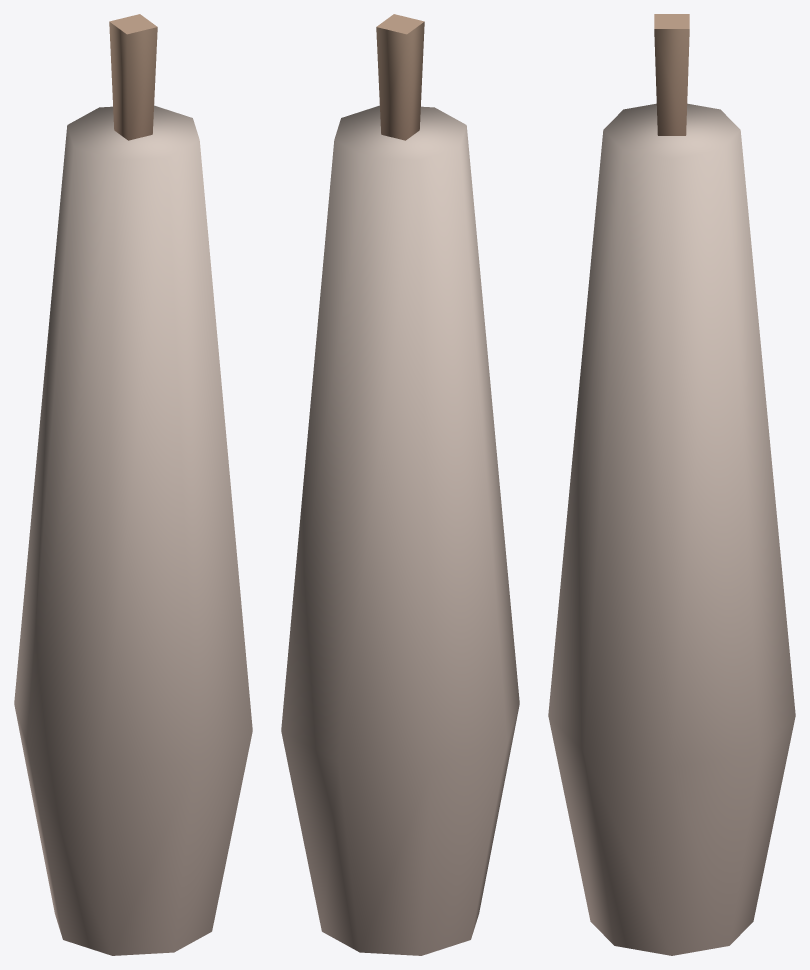
File: candle-thin.glb
3 renders of one model, left to right at view 1: azimuth 30°, elevation 25°; view 2: azimuth 150°, elevation 25°; view 3: azimuth 270°, elevation 25°, orthographic.
Visible parts, largest first — view 1: candle-thin; view 2: candle-thin; view 3: candle-thin.
Part boxes in pixels (x1=…): candle-thin: x1=14, y1=14, x2=252, y2=955; candle-thin: x1=281, y1=14, x2=519, y2=955; candle-thin: x1=548, y1=14, x2=795, y2=955.
Size of the model in its own units: 0.0646 by 0.2592 by 0.0646.
